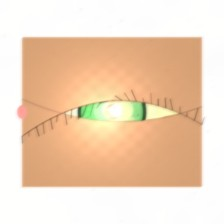corneal_ulcer: (92, 89, 143, 130)
